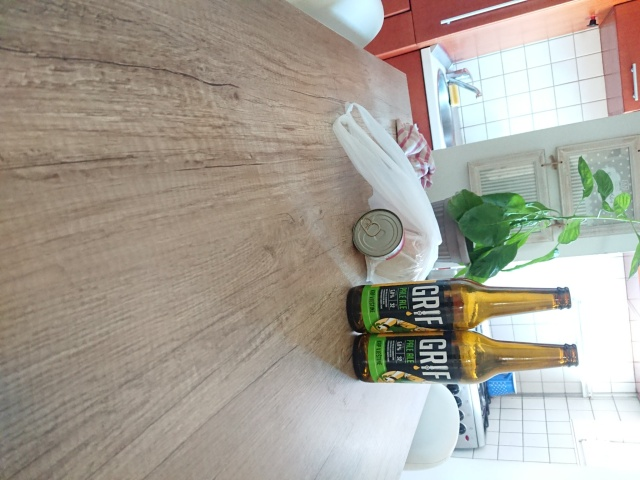Gavrilovic Pork Liver Pate 100g: (350, 207, 405, 262)
